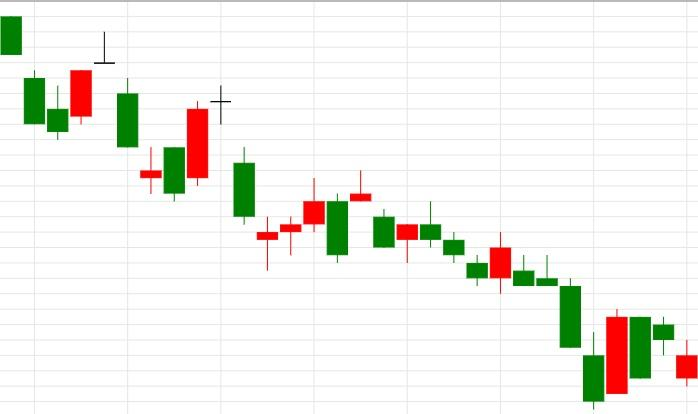three_white_soldiers_rise: (210, 84, 325, 271)
